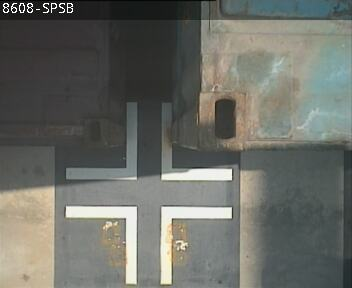groundmarker_1: (65, 206, 231, 283), (65, 103, 231, 179)
